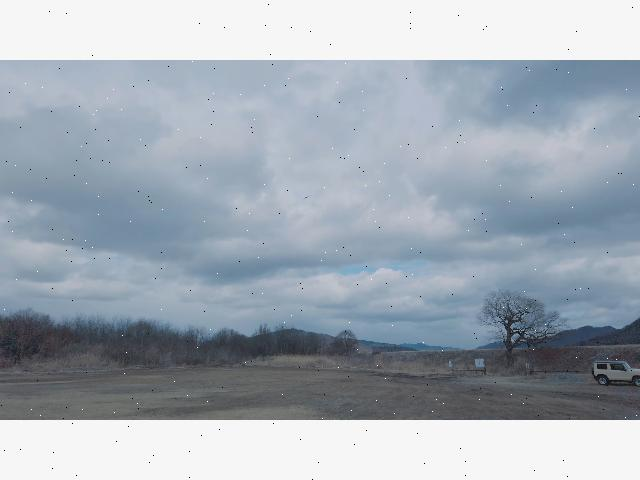Anti-Drone: (300, 193, 312, 203)
